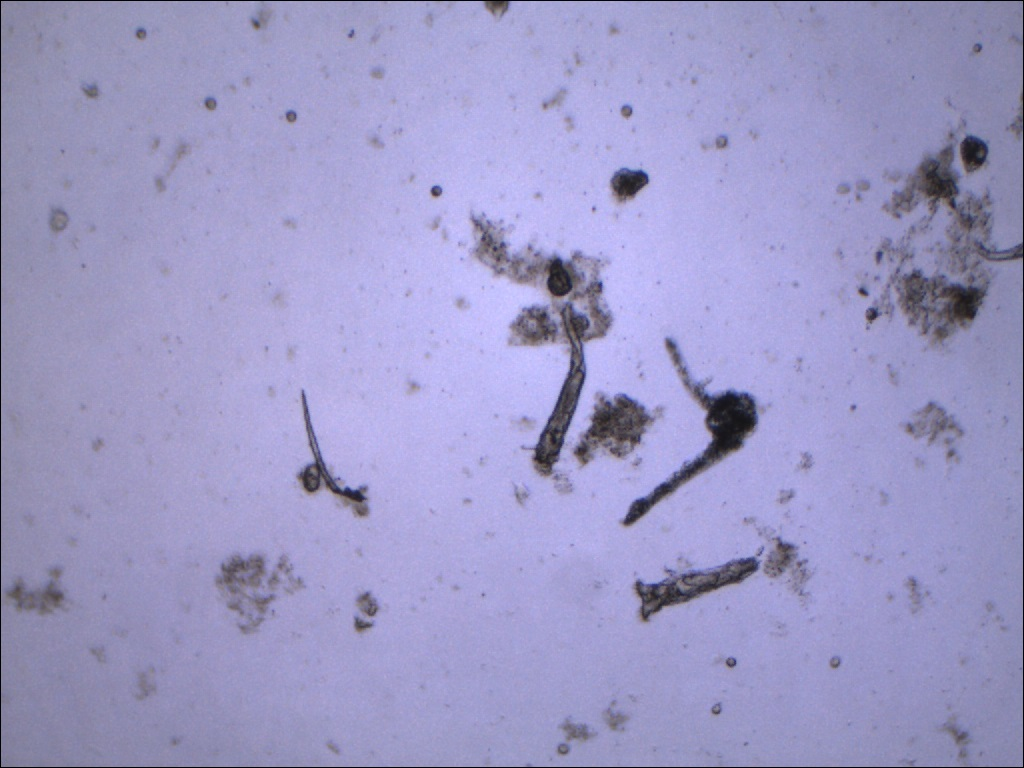amoeba: (621, 330, 765, 533)
